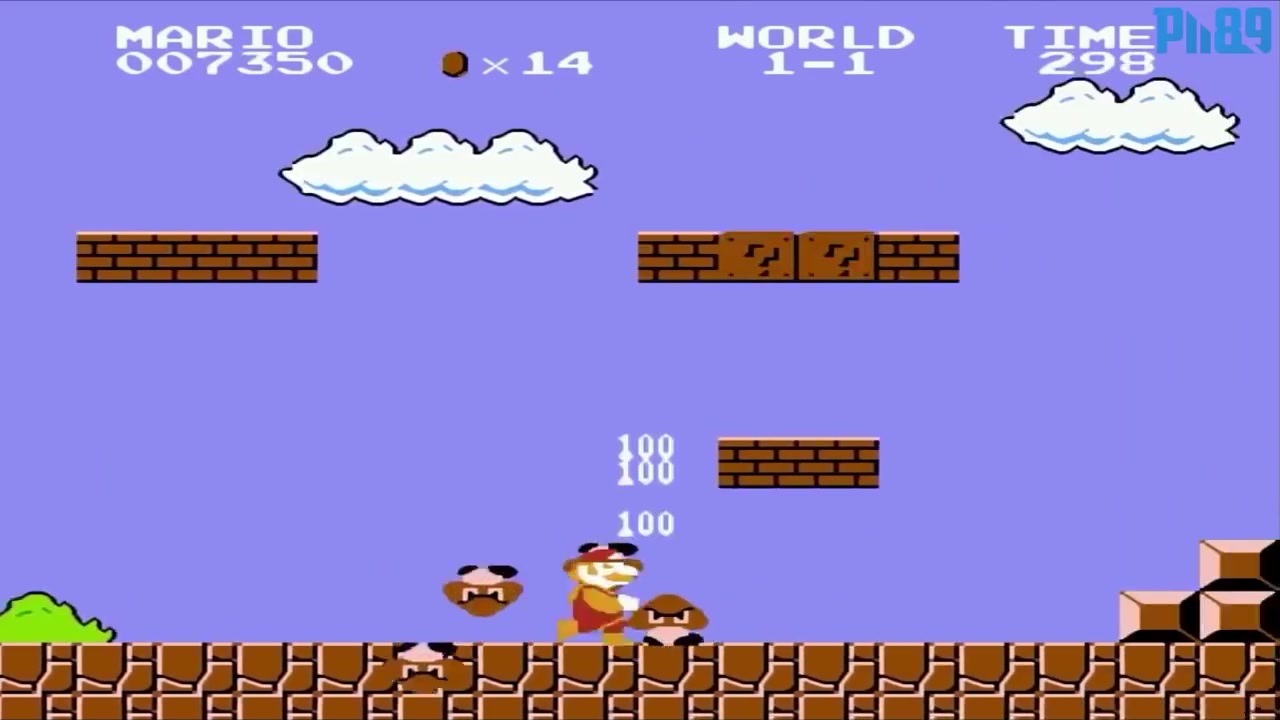mario: (542, 537, 649, 643)
